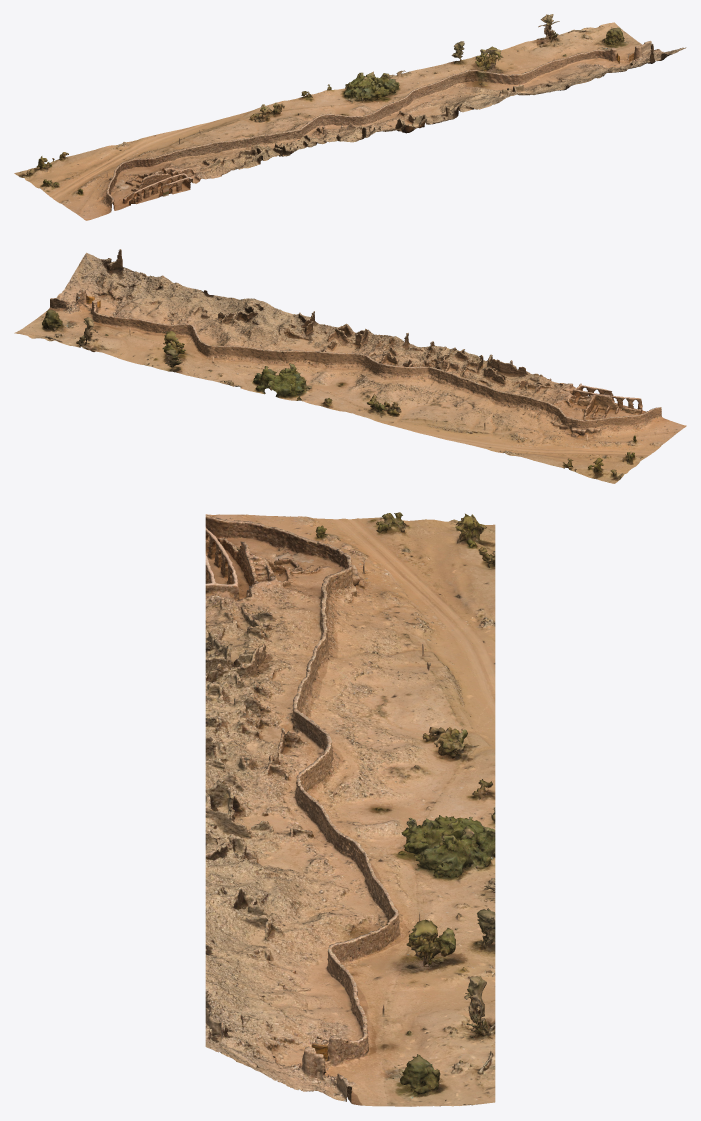
The picture shows the model from 3 angles, top to bottom: view 1: azimuth 30°, elevation 25°; view 2: azimuth 150°, elevation 25°; view 3: azimuth 270°, elevation 25°; orthographic projection. The views are drawn at different scales.
Visible parts, largest first — view 1: MRT_001_M8_Remparts; view 2: MRT_001_M8_Remparts; view 3: MRT_001_M8_Remparts.
Part boxes in pixels (x1,y1,x2,y2): MRT_001_M8_Remparts: (14, 14, 686, 220); MRT_001_M8_Remparts: (14, 249, 686, 483); MRT_001_M8_Remparts: (205, 512, 495, 1106).
Bounding box in the file's own units: 166 × 11.68 × 34.75.
Materials: 1 (1 with a texture image).
